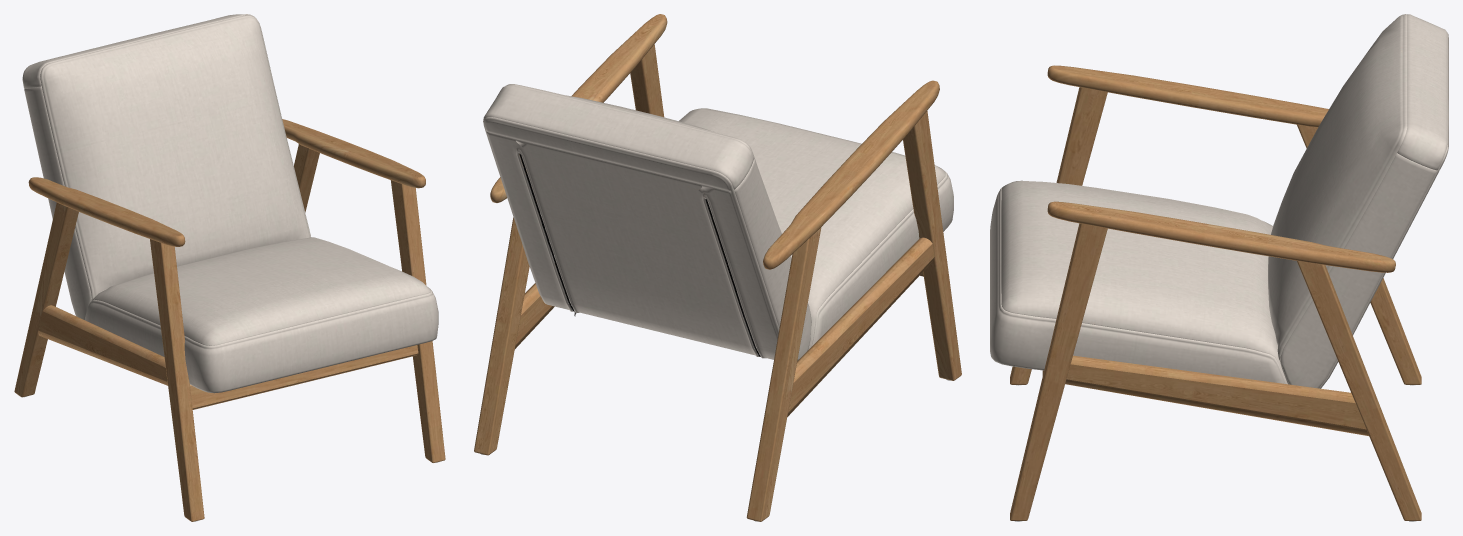
File: ekenaeset-armchair-oak-gunnared-beige-60506898.glb
3 views of the same model, side by side, from view 1: azimuth 30°, elevation 25°; view 2: azimuth 150°, elevation 25°; view 3: azimuth 270°, elevation 25° (orthographic). The views are drawn at different scales.
Visible parts, largest first — view 1: Mesh_0; view 2: Mesh_0; view 3: Mesh_0.
Boxes of the visible parts, left/top/right/bottom form: Mesh_0: left=14, top=14, right=445, bottom=521; Mesh_0: left=474, top=14, right=961, bottom=521; Mesh_0: left=990, top=14, right=1448, bottom=521.
Bounding box in the file's own units: 0.64 × 0.76 × 0.8295.
Materials: 1 (1 with a texture image).
